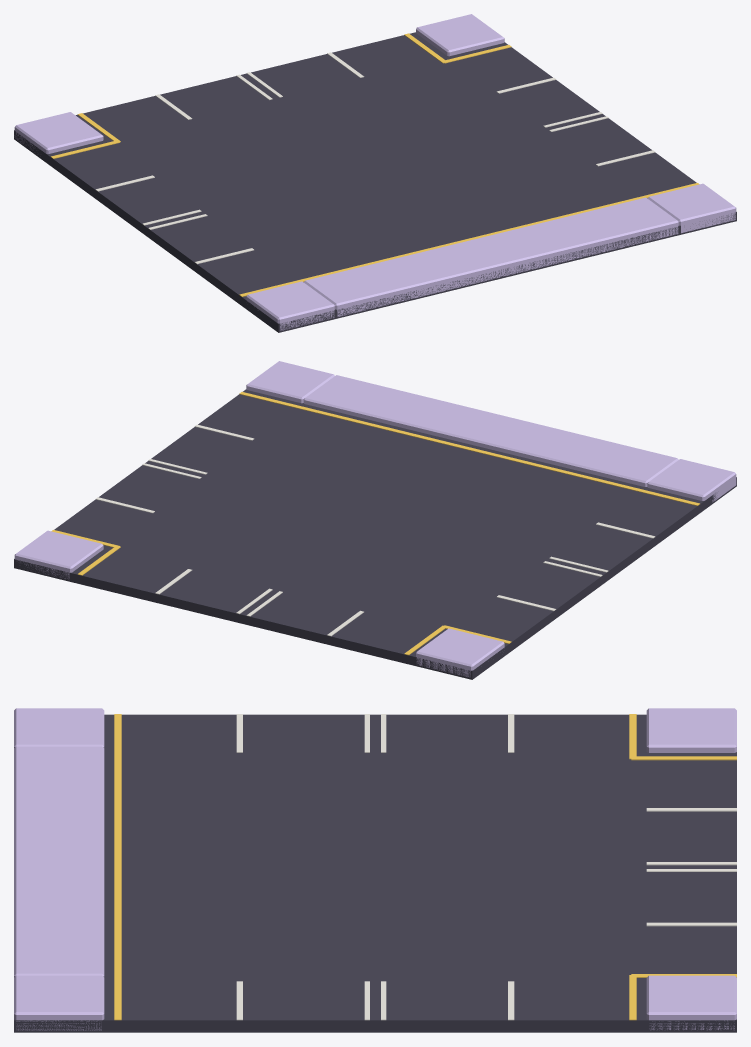
The model's file is road_t.glb.
3 views of the same model, one above another, from view 1: azimuth 30°, elevation 25°; view 2: azimuth 150°, elevation 25°; view 3: azimuth 270°, elevation 25° (orthographic). The views are drawn at different scales.
Parts seen in each view (by area): view 1: road_t; view 2: road_t; view 3: road_t.
Part boxes in pixels (x1,y1,x2,y2): road_t: (14, 14, 736, 332); road_t: (14, 361, 736, 679); road_t: (14, 708, 736, 1032).
Bounding box in the file's own units: 16 × 0.48 × 16.
